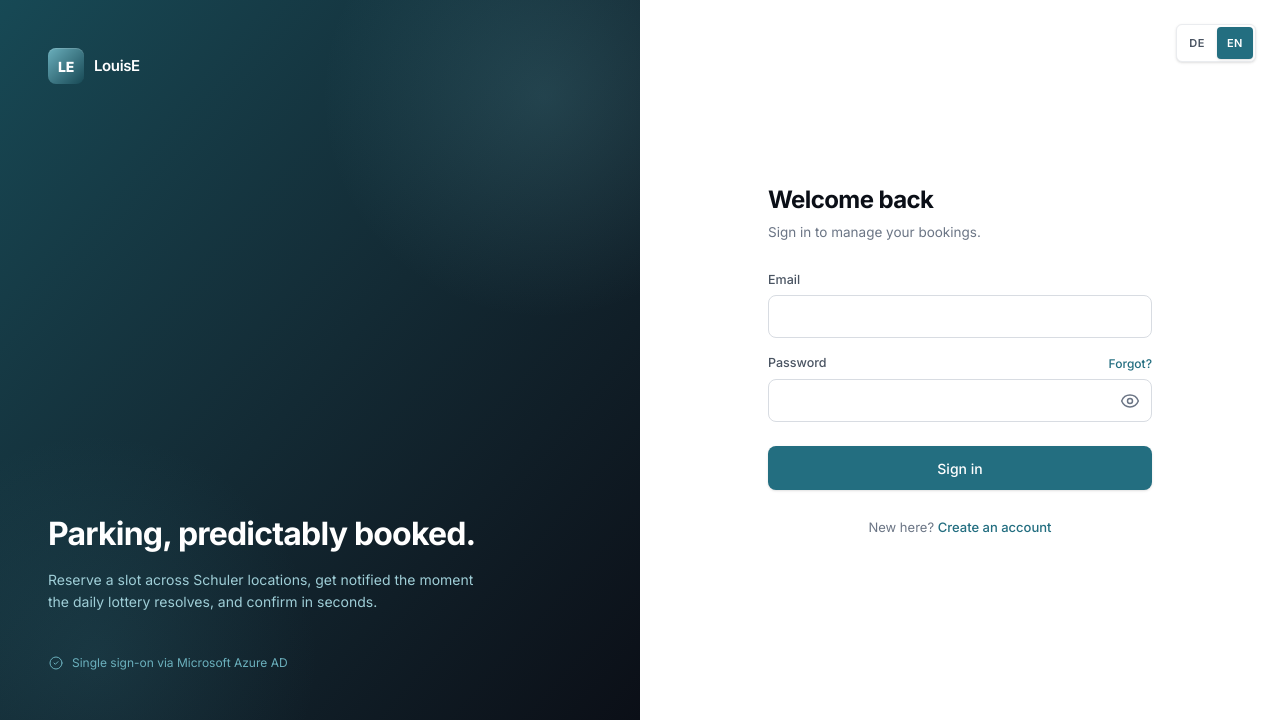
Test case: LoginPage › disables button while loading
Type "test@test.de" into the field labelled "Email" at (960, 317), box [768,295,1152,338]
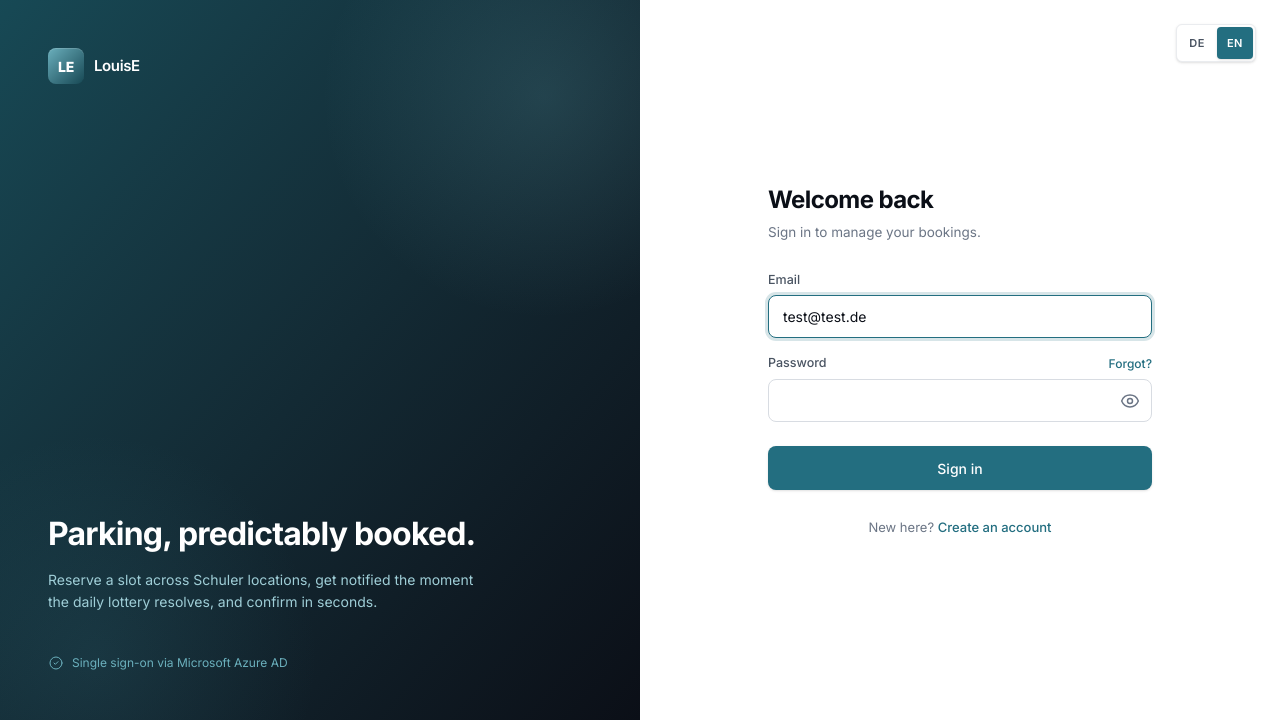
Type "pass1234" into the password field labelled "Password" at (960, 401), box [768,379,1152,422]
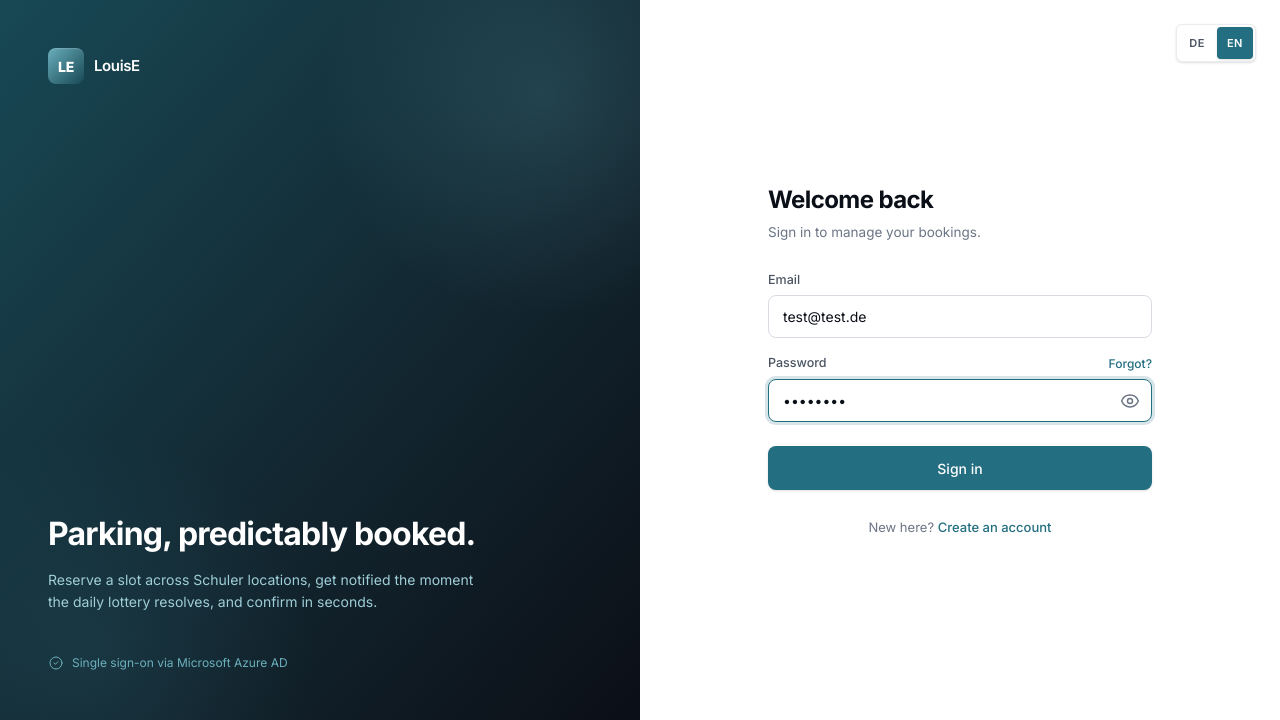
Click the button "Sign in" at (960, 468), box [768,446,1152,490]
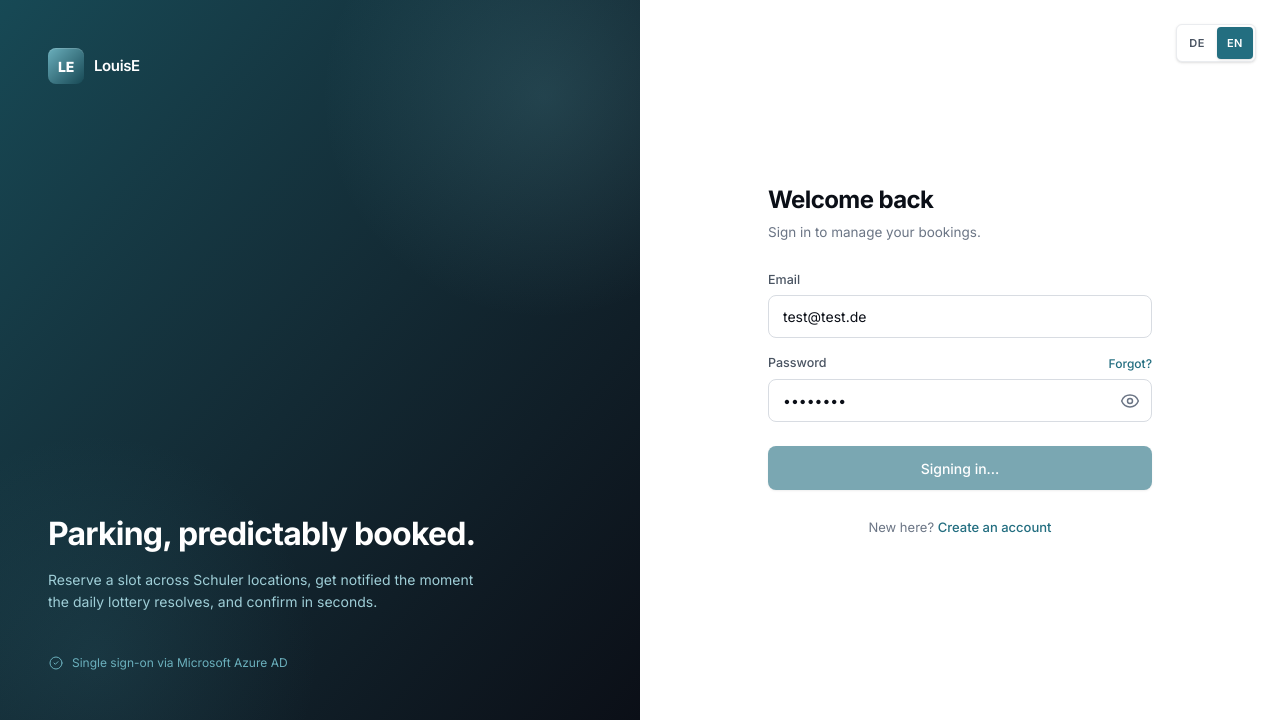
Check: the button "Signing in…" is disabled, box [768,446,1152,490]
